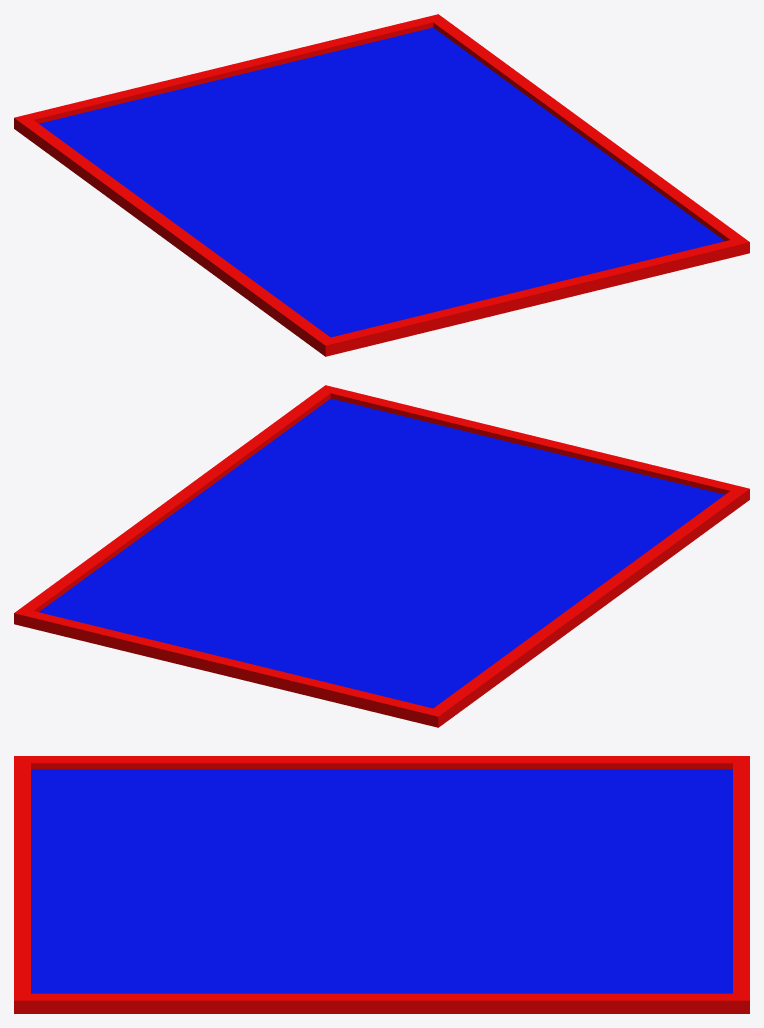
File: WallPaper.fbx
3 views of the same model, one above another, from view 1: azimuth 30°, elevation 25°; view 2: azimuth 150°, elevation 25°; view 3: azimuth 270°, elevation 25° (orthographic). The views are drawn at different scales.
Visible parts, largest first — view 1: WallPaper; view 2: WallPaper; view 3: WallPaper.
Boxes of the visible parts, x1,y1,x2,y2 form: WallPaper: (14, 14, 749, 356); WallPaper: (14, 385, 749, 727); WallPaper: (14, 756, 749, 1013).
Size of the model in its own units: 94.92 by 2.37 by 121.
